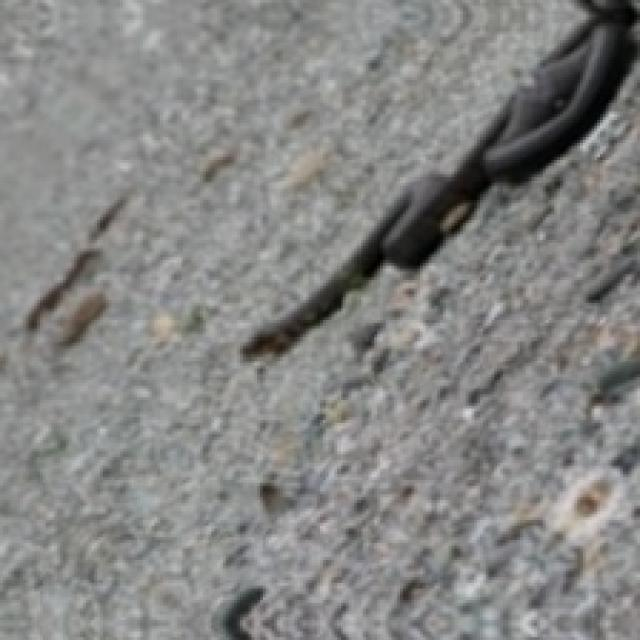king cobra: (240, 0, 634, 357)
